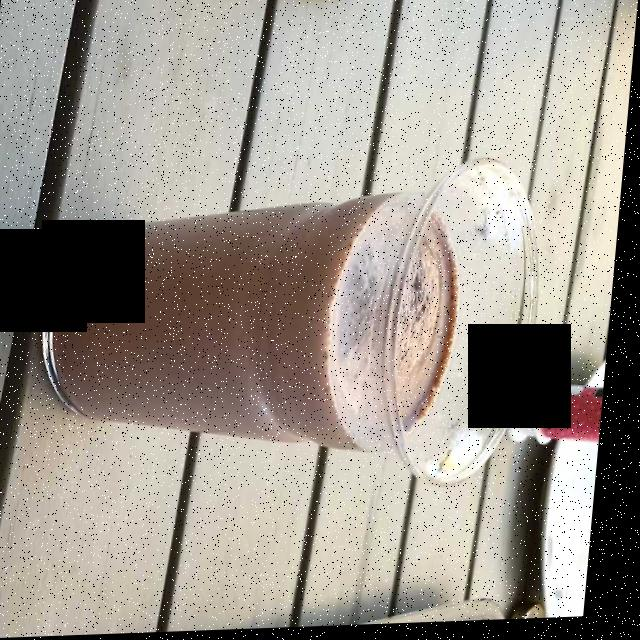chocolate-milk-chocolate-drink: (73, 198, 466, 451)
